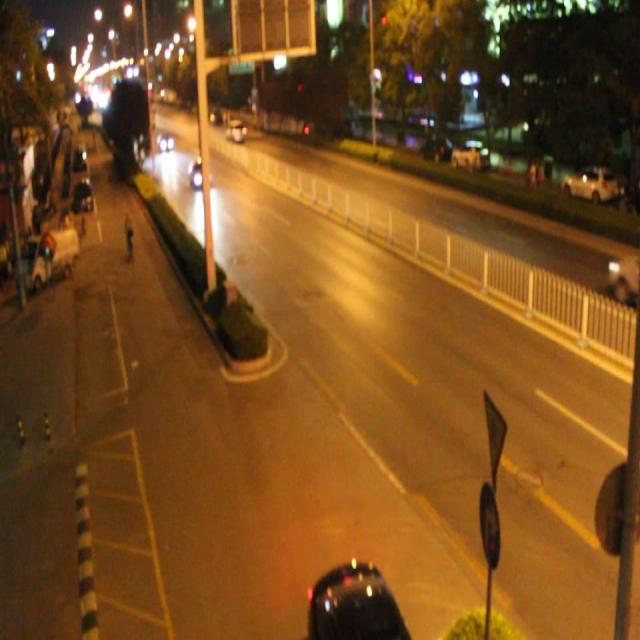car: (306, 557, 409, 640), (608, 244, 640, 299), (187, 158, 212, 188), (226, 119, 246, 145), (155, 129, 175, 153)
